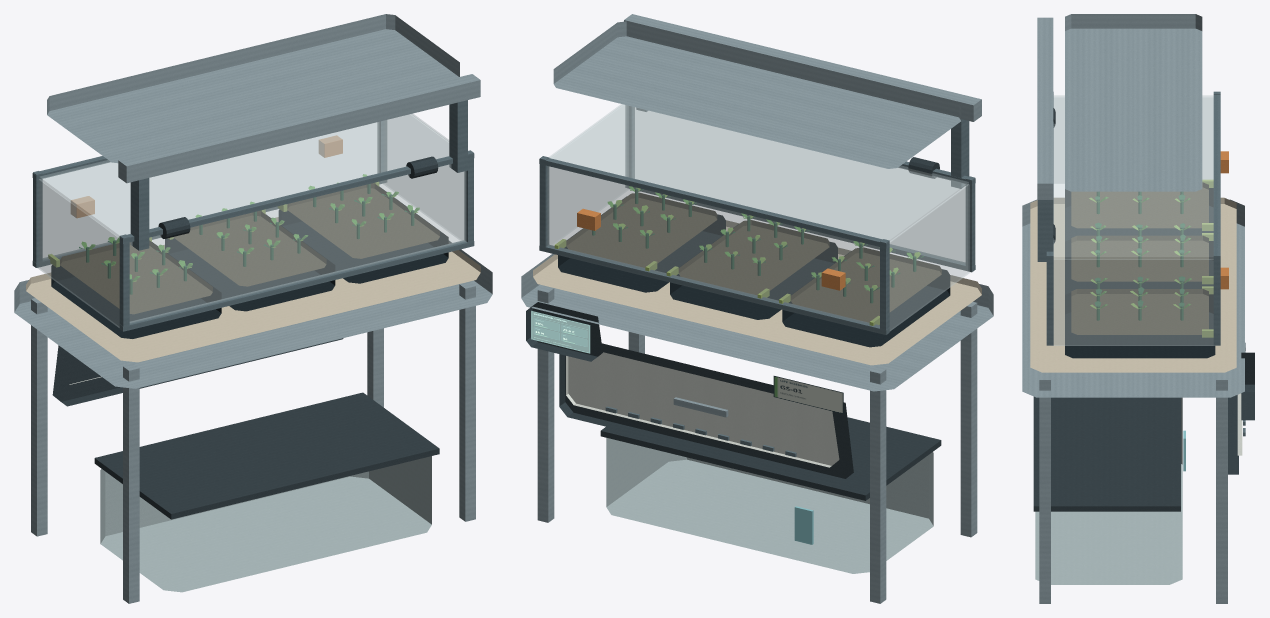
File: seedling_station.glb
3 views of the same model, side by side, from view 1: azimuth 30°, elevation 25°; view 2: azimuth 150°, elevation 25°; view 3: azimuth 270°, elevation 25° (orthographic). The views are drawn at different scales.
Parts seen in each view (by area): view 1: Humidity_Dome__clear, static__alloy, LED_Housing__alloy, Seedling_Reservoir__tank, Seedling_Reservoir__graphite, static__cream, Humidity_Dome__trim, Seed_Tray_C__substrate, Seed_Tray_B__substrate, Seed_Tray_A__substrate, Seed_Tray_A__carbon, Seed_Tray_C__carbon (+5 smaller); view 2: Humidity_Dome__clear, LED_Housing__alloy, static__alloy, Seedling_Reservoir__tank, static__shell, Humidity_Dome__trim, static__cream, static__graphite, Seedling_Reservoir__graphite, Seed_Tray_B__substrate, Seed_Tray_C__substrate, Seed_Tray_A__substrate (+9 smaller); view 3: Humidity_Dome__clear, LED_Housing__alloy, static__alloy, Seedling_Reservoir__graphite, Seedling_Reservoir__tank, static__cream, Seed_Tray_B__substrate, Seed_Tray_C__substrate, Seed_Tray_A__substrate, Seed_Tray_C__carbon, Humidity_Dome__trim, Seed_Tray_B__carbon (+8 smaller).
Part boxes in pixels (x1,y1,x2,y2): Humidity_Dome__clear: (38, 114, 466, 327); static__alloy: (14, 74, 492, 603); LED_Housing__alloy: (47, 14, 459, 163); Seedling_Reservoir__tank: (100, 456, 431, 592); Seedling_Reservoir__graphite: (94, 392, 439, 519); static__cream: (26, 217, 480, 362); Humidity_Dome__trim: (32, 120, 474, 331); Seed_Tray_C__substrate: (287, 183, 439, 258); Seed_Tray_B__substrate: (173, 211, 326, 286); Seed_Tray_A__substrate: (60, 240, 212, 314); Seed_Tray_A__carbon: (51, 242, 221, 338); Seed_Tray_C__carbon: (278, 187, 448, 283); Humidity_Dome__clear: (547, 104, 970, 330); LED_Housing__alloy: (553, 21, 961, 168); static__alloy: (521, 14, 993, 603); Seedling_Reservoir__tank: (606, 438, 933, 573); static__shell: (566, 352, 839, 467); Humidity_Dome__trim: (539, 105, 975, 334); static__cream: (533, 220, 981, 365); static__graphite: (559, 343, 853, 483); Seedling_Reservoir__graphite: (600, 417, 941, 500); Seed_Tray_B__substrate: (678, 220, 829, 294); Seed_Tray_C__substrate: (566, 192, 717, 267); Seed_Tray_A__substrate: (790, 247, 941, 322); Humidity_Dome__clear: (1053, 95, 1213, 345); LED_Housing__alloy: (1065, 14, 1202, 191); static__alloy: (1022, 17, 1245, 603); Seedling_Reservoir__graphite: (1033, 396, 1180, 511); Seedling_Reservoir__tank: (1035, 397, 1182, 584); static__cream: (1030, 197, 1236, 372); Seed_Tray_B__substrate: (1071, 235, 1208, 281); Seed_Tray_C__substrate: (1071, 289, 1208, 334); Seed_Tray_A__substrate: (1071, 182, 1208, 228); Seed_Tray_C__carbon: (1065, 292, 1215, 358); Humidity_Dome__trim: (1046, 91, 1220, 345); Seed_Tray_B__carbon: (1065, 239, 1213, 294).
Size of the model in its own units: 1.28 by 1.44 by 0.713.
18 materials, 16 textured.
